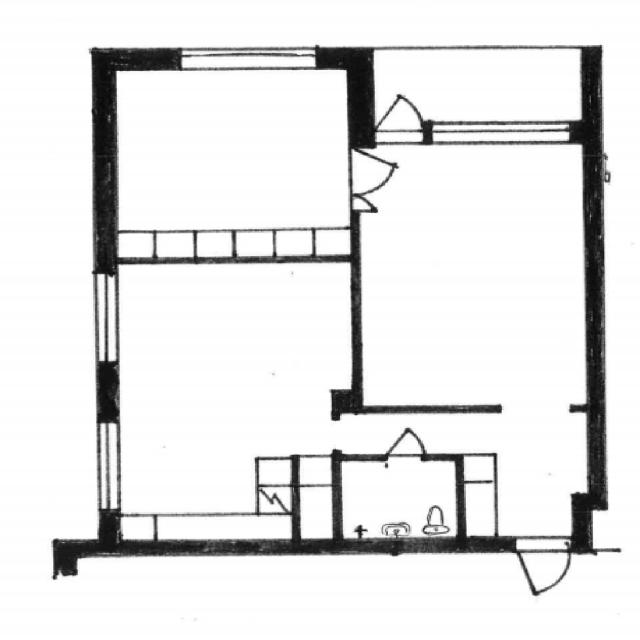door: (511, 534, 574, 598), (343, 140, 404, 202), (372, 90, 434, 141), (376, 422, 432, 462)
window: (174, 40, 322, 78), (83, 266, 128, 374), (86, 415, 129, 523), (429, 119, 574, 151), (492, 398, 584, 418)
zone: (113, 257, 356, 543), (354, 131, 595, 414), (111, 62, 358, 261), (106, 408, 296, 550), (460, 406, 590, 544), (336, 456, 462, 545)
